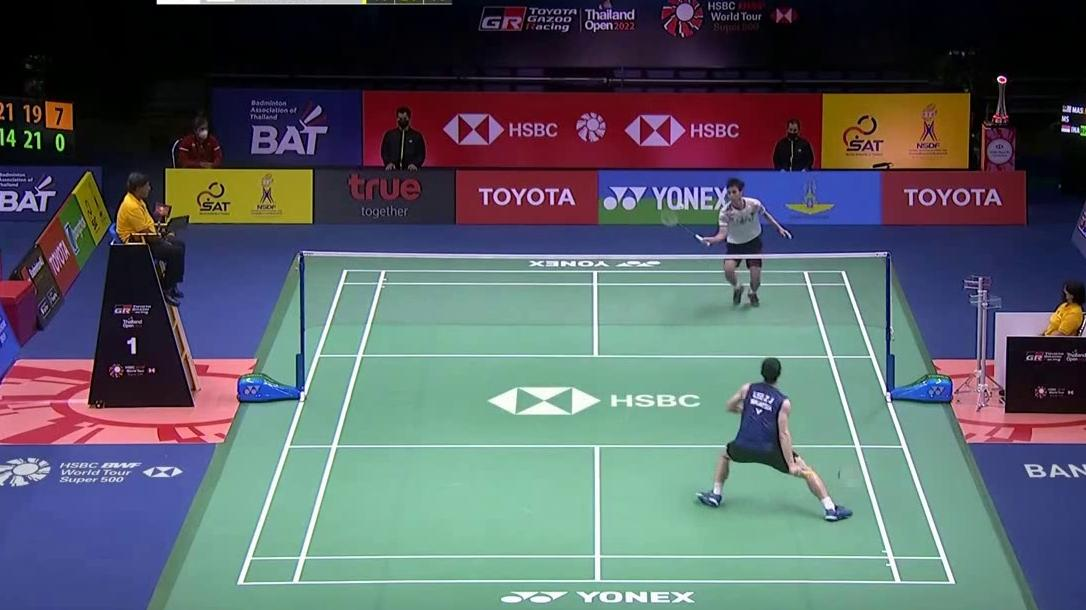racket: (795, 462, 868, 494), (658, 205, 712, 248)
shuttle: (677, 203, 684, 211)
